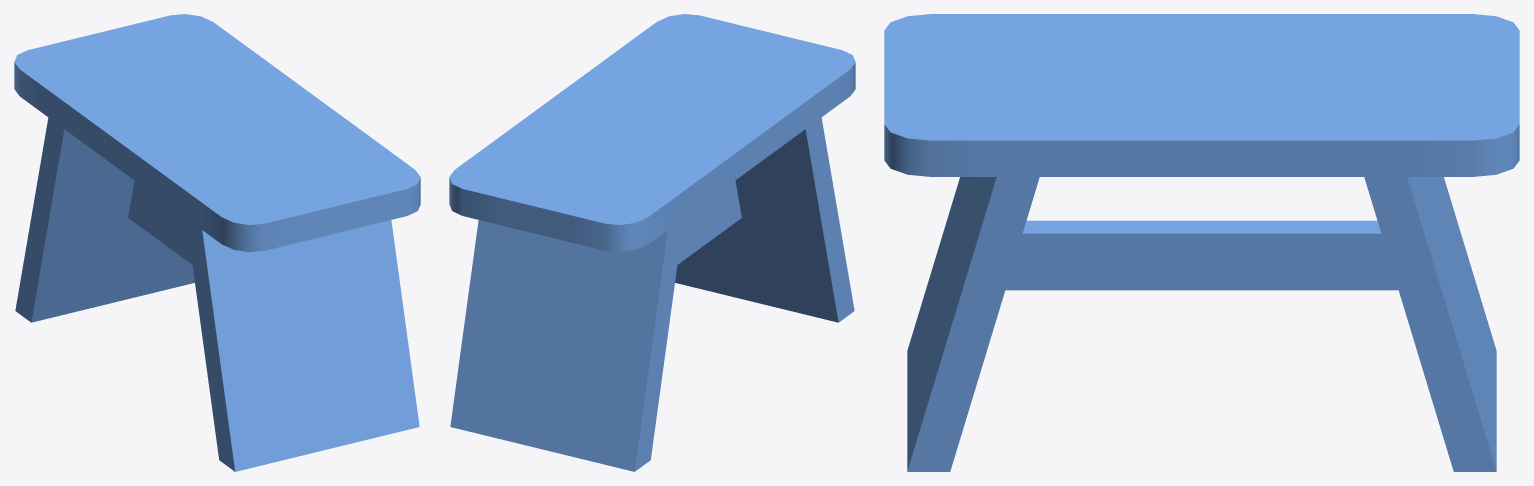
The model's file is bath chair.fbx.
3 views of the same model, side by side, from view 1: azimuth 30°, elevation 25°; view 2: azimuth 150°, elevation 25°; view 3: azimuth 270°, elevation 25° (orthographic). The views are drawn at different scales.
Visible parts, largest first — view 1: bathchair; view 2: bathchair; view 3: bathchair.
Part boxes in pixels (x1,y1,x2,y2): bathchair: (14,14,420,471); bathchair: (449,14,855,471); bathchair: (884,14,1519,471).
Size of the model in its own units: 168 by 206 by 356.
